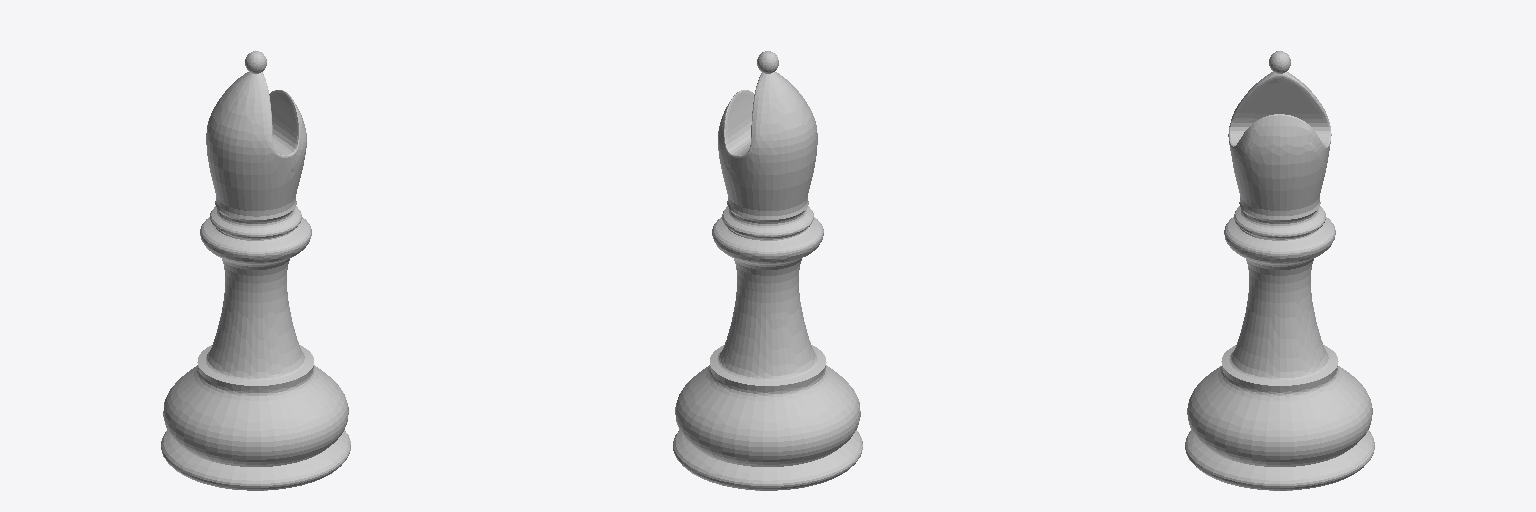
File: bishop.obj
3 renders of one model, left to right at view 1: azimuth 30°, elevation 25°; view 2: azimuth 150°, elevation 25°; view 3: azimuth 270°, elevation 25°, orthographic.
Parts seen in each view (by area): view 1: bishop; view 2: bishop; view 3: bishop.
Part boxes in pixels (bbox=[...]): bishop: bbox=[161, 51, 350, 490]; bishop: bbox=[673, 51, 862, 490]; bishop: bbox=[1185, 51, 1374, 490].
Size of the model in its own units: 1 by 2.37 by 1.